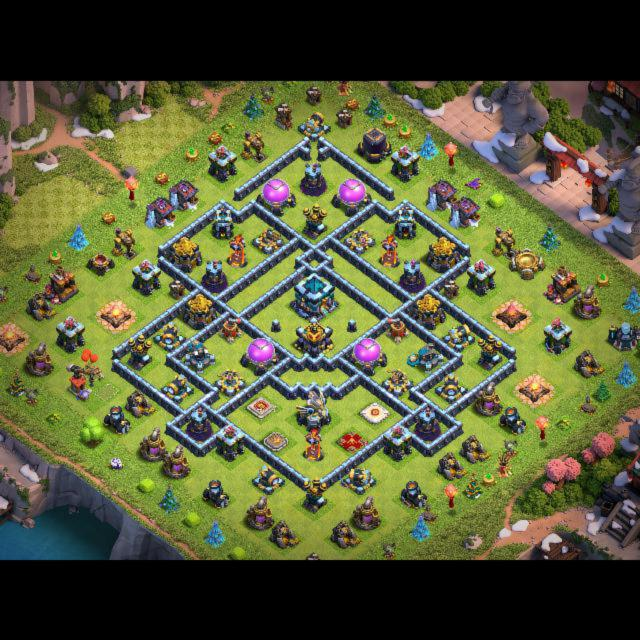AD: (476, 334, 502, 371), (127, 333, 152, 370), (302, 476, 327, 513), (302, 202, 327, 239)
AirSweeper: (385, 317, 409, 343), (218, 317, 242, 343)
BombTower: (395, 204, 416, 238), (212, 204, 232, 238)
Canon: (433, 373, 467, 403), (153, 321, 186, 351), (297, 111, 331, 140), (161, 374, 194, 403), (252, 465, 285, 494), (442, 323, 475, 351), (342, 467, 376, 494)
ClanCastle: (296, 315, 333, 357)
Eagle: (296, 388, 331, 433)
Inferno: (303, 427, 324, 461), (380, 234, 401, 267), (227, 234, 248, 267)
KingPad: (246, 395, 275, 417)
Mortar: (201, 479, 230, 509), (103, 404, 131, 434), (499, 406, 527, 435), (400, 480, 428, 509)
QueenPad: (337, 429, 368, 451)
RcPad: (264, 431, 288, 450)
Scattershot: (407, 342, 444, 373), (185, 339, 216, 373)
TH13: (294, 270, 335, 321)
WardenPad: (362, 402, 389, 423)
WizzTower: (415, 406, 440, 440), (187, 406, 212, 440), (400, 258, 425, 292), (301, 162, 326, 195), (202, 259, 227, 292)
Xbow: (381, 368, 414, 397), (213, 368, 246, 396), (252, 225, 285, 253), (343, 228, 376, 254)
